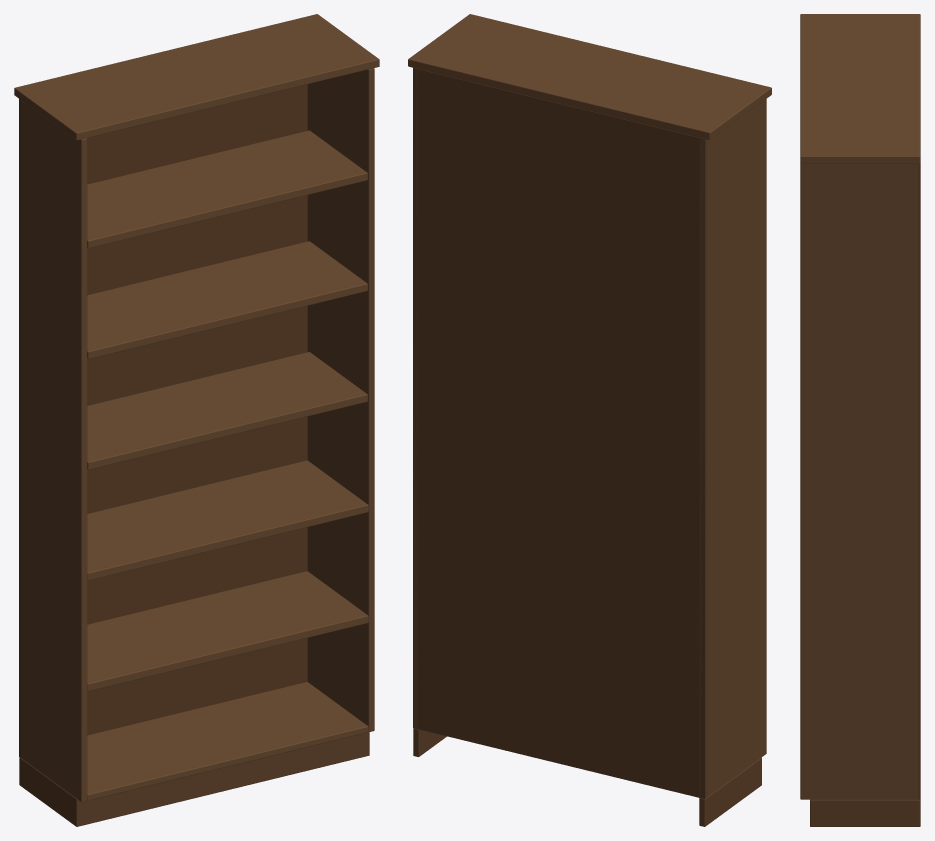
Rendered from Hallam_bookcase.glb.
The picture shows the model from 3 angles, left to right: view 1: azimuth 30°, elevation 25°; view 2: azimuth 150°, elevation 25°; view 3: azimuth 270°, elevation 25°; orthographic projection. The views are drawn at different scales.
Visible parts, largest first — view 1: back, side.panel_1, side.panel_2, top, shelf.fixed_1, shelf.fixed_2, bottom, shelf.adjustable_1, shelf.adjustable_2, shelf.adjustable_3, plinth.front, plinth.side_1; view 2: back, side.panel_1, top, side.panel_2, plinth.side_1; view 3: side.panel_2, top, plinth.side_2, back.
Part boxes in pixels (x1,y1,x2,y2): back: (19, 84, 307, 757); side.panel_1: (20, 100, 87, 802); side.panel_2: (307, 68, 374, 731); top: (14, 14, 379, 140); shelf.fixed_1: (87, 571, 368, 691); shelf.fixed_2: (87, 460, 368, 580); bottom: (87, 682, 368, 800); shelf.adjustable_1: (87, 352, 367, 469); shelf.adjustable_2: (87, 241, 367, 359); shelf.adjustable_3: (87, 130, 367, 248); plinth.front: (73, 732, 369, 826); plinth.side_1: (19, 757, 81, 826); back: (413, 68, 706, 798); side.panel_1: (699, 99, 766, 797); top: (408, 14, 771, 139); side.panel_2: (413, 69, 418, 728); plinth.side_1: (699, 759, 758, 826); side.panel_2: (800, 163, 918, 799); top: (800, 14, 920, 163); plinth.side_2: (816, 799, 920, 826); back: (918, 163, 920, 799).
Bounding box in the file's own units: 0.9 × 1.98 × 0.32.
